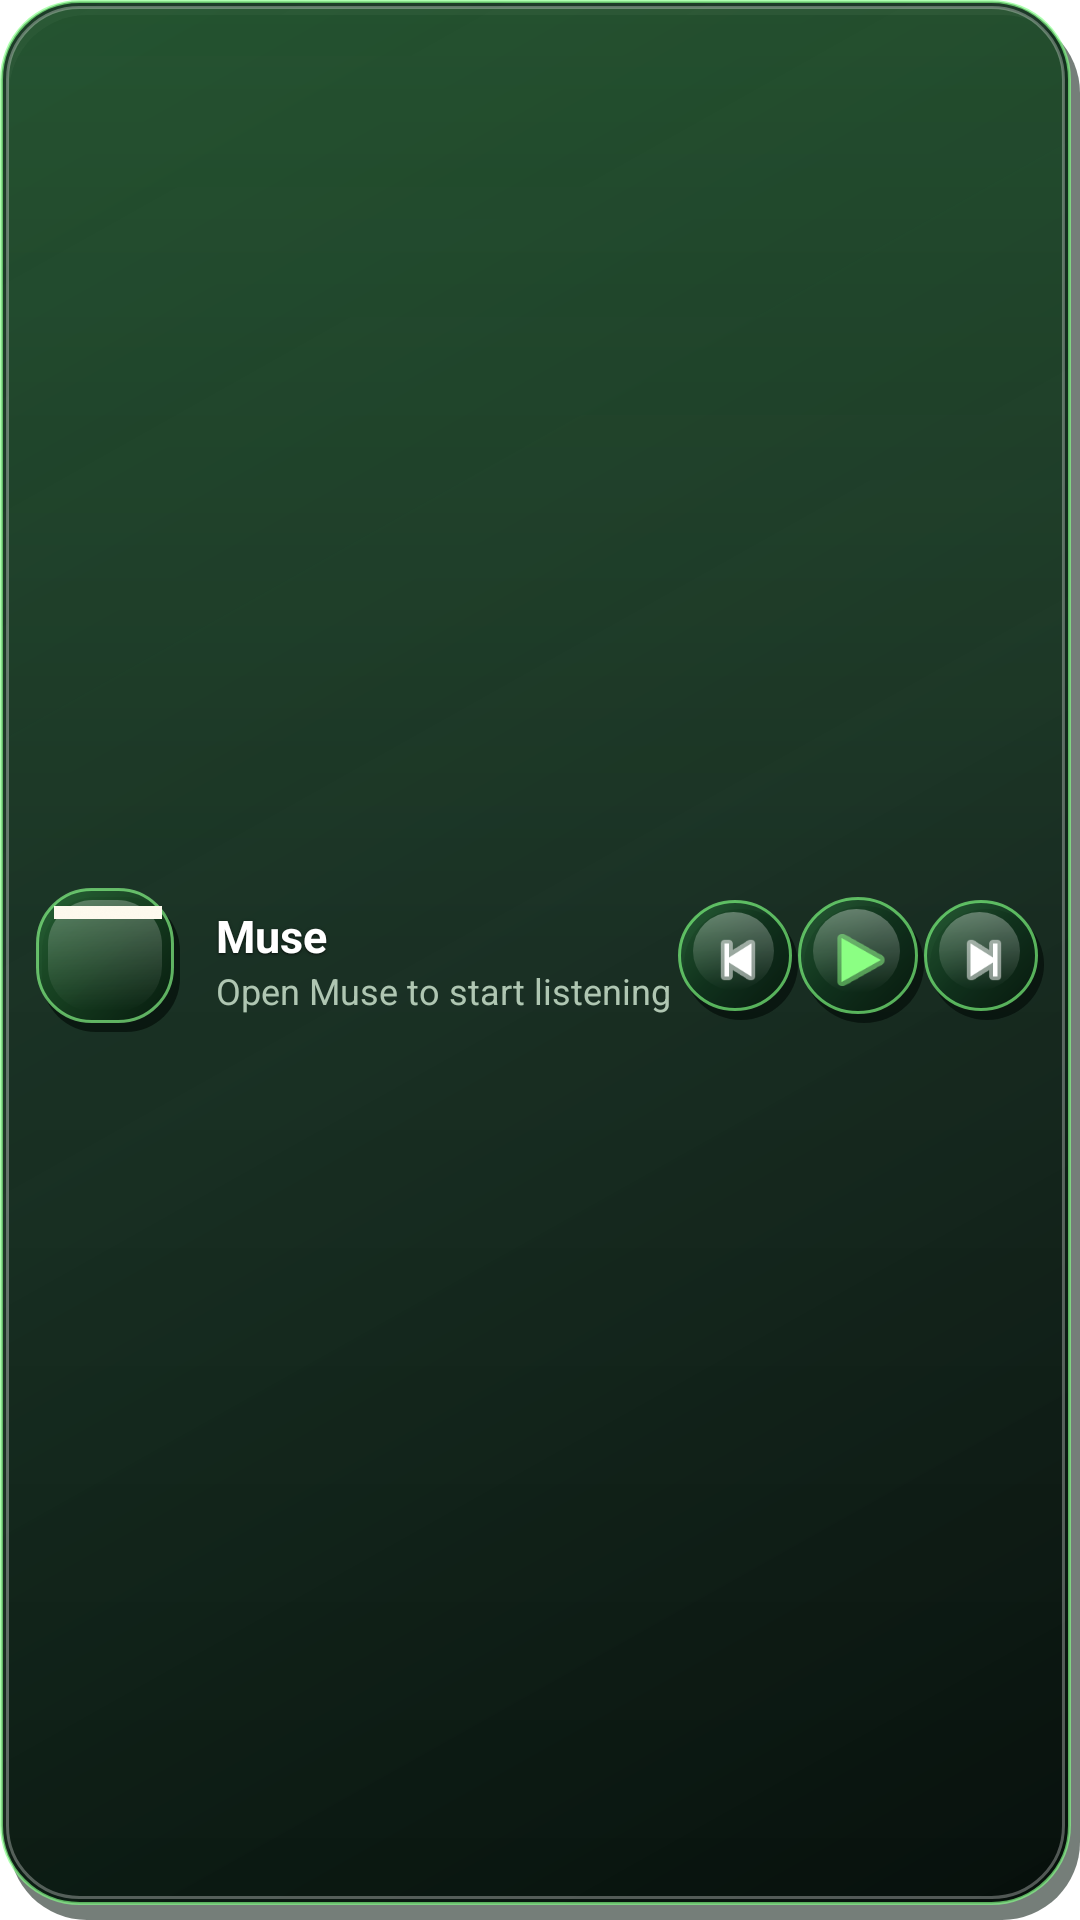

Icon bounding boxes for this 1080 x 1920 phone screenshot, format [left=x1, top=y1, right=x2, bottom=y2]:
Next track: [left=924, top=900, right=1044, bottom=1020]
Play or pause: [left=798, top=897, right=924, bottom=1023]
Previous track: [left=678, top=900, right=798, bottom=1020]
